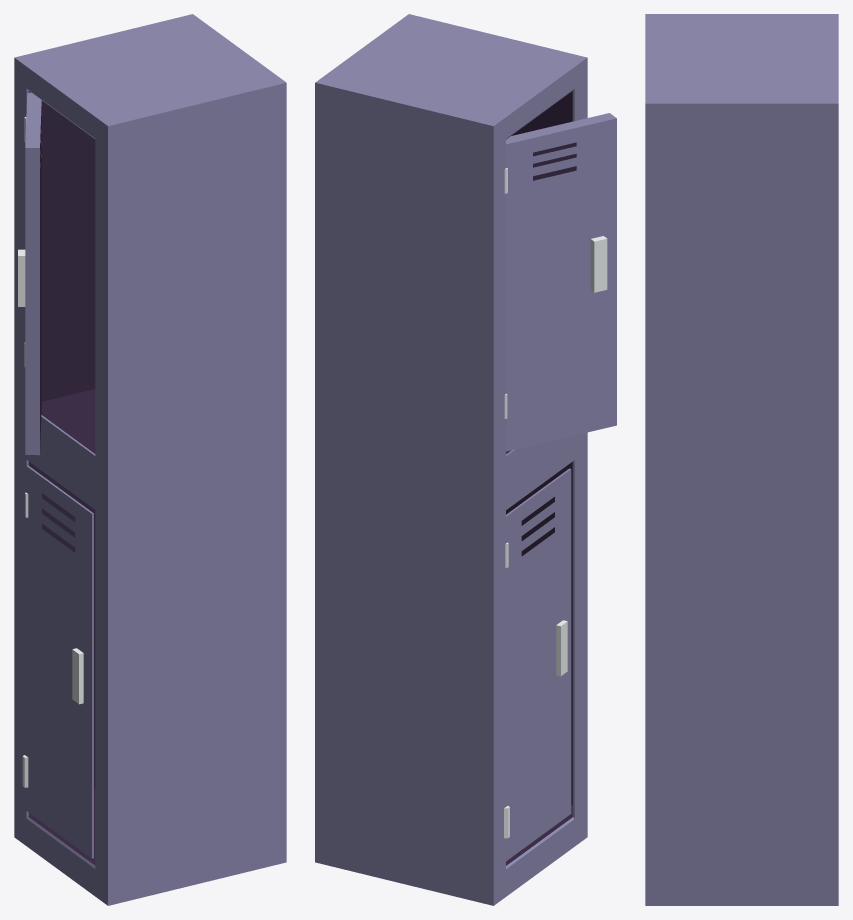
File: armario_semifechado.fbx
The picture shows the model from 3 angles, left to right: view 1: azimuth 30°, elevation 25°; view 2: azimuth 150°, elevation 25°; view 3: azimuth 270°, elevation 25°; orthographic projection. The views are drawn at different scales.
Visible parts, largest first — view 1: Armário_semiaberto; view 2: Armário_semiaberto; view 3: Armário_semiaberto.
Part boxes in pixels (x1,y1,x2,y2): Armário_semiaberto: [14, 14, 286, 905]; Armário_semiaberto: [315, 14, 616, 905]; Armário_semiaberto: [645, 14, 838, 905].
Size of the model in its own units: 83.03 by 264 by 57.49.
